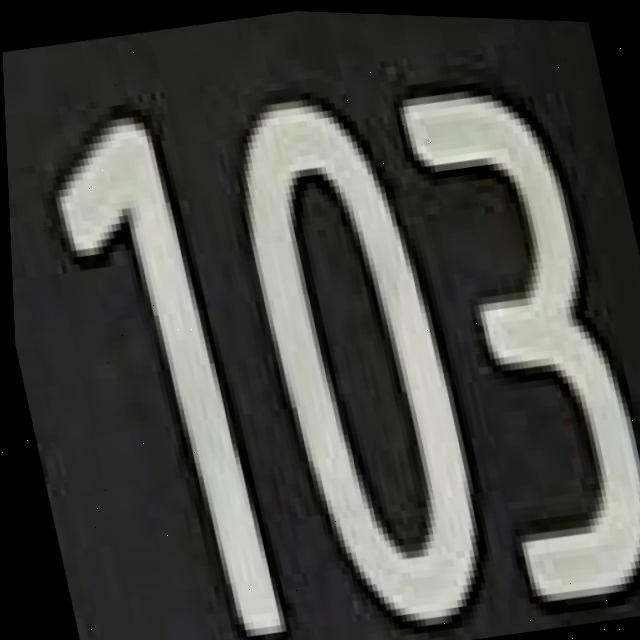character: (211, 67, 515, 640), (29, 87, 300, 640), (393, 63, 640, 625)
